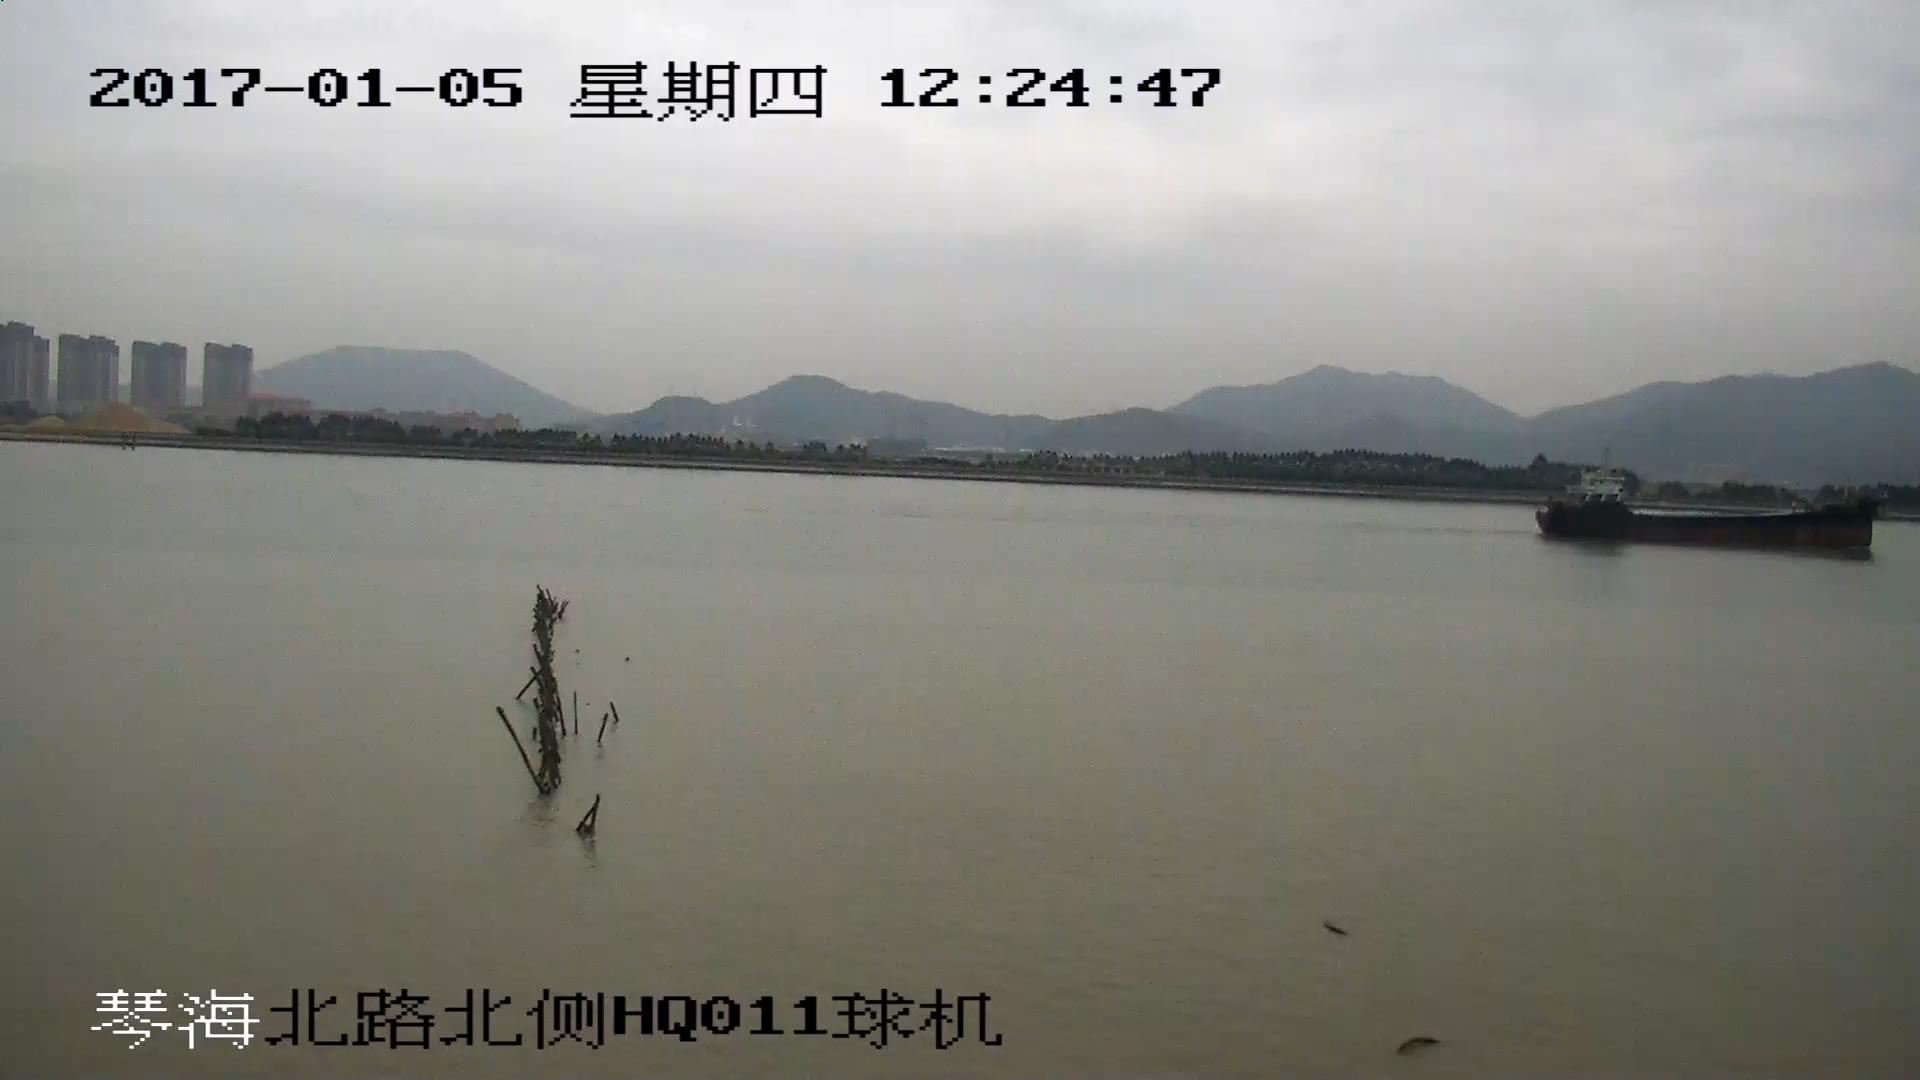general cargo ship: (1537, 473, 1884, 553)
